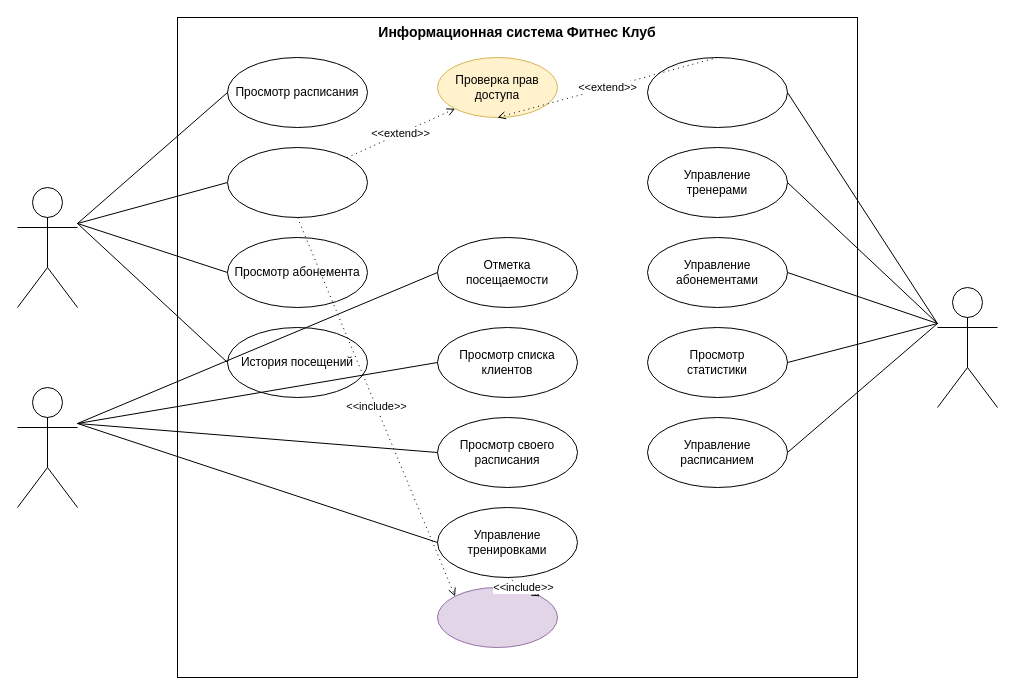
The diagram is 1028 pixels wide and 695 high, and some of its shapes have lost their labels. Each missing label, with the box of its shape:
Авторизация: (436, 586, 558, 648)
Администратор: (936, 286, 998, 408)
Запись на тренировку: (226, 146, 368, 218)
Клиент: (16, 186, 78, 308)
Тренер: (16, 386, 78, 508)
Управление пользователями: (646, 56, 788, 128)
